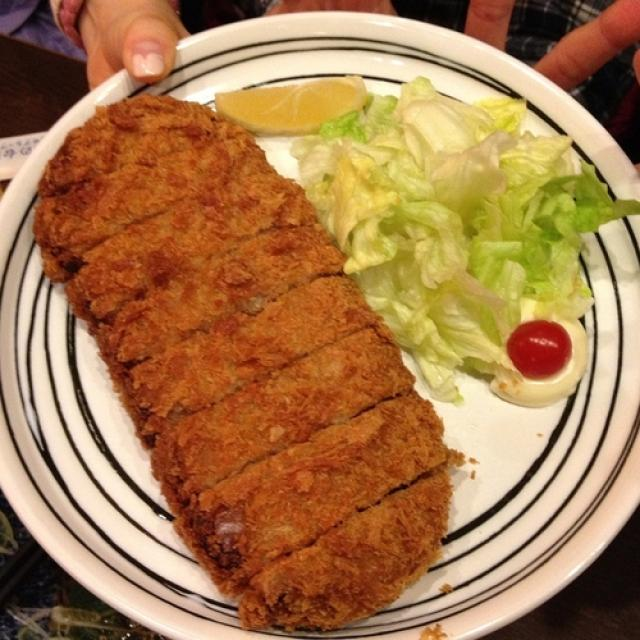炸货点心: (5, 12, 631, 634)
